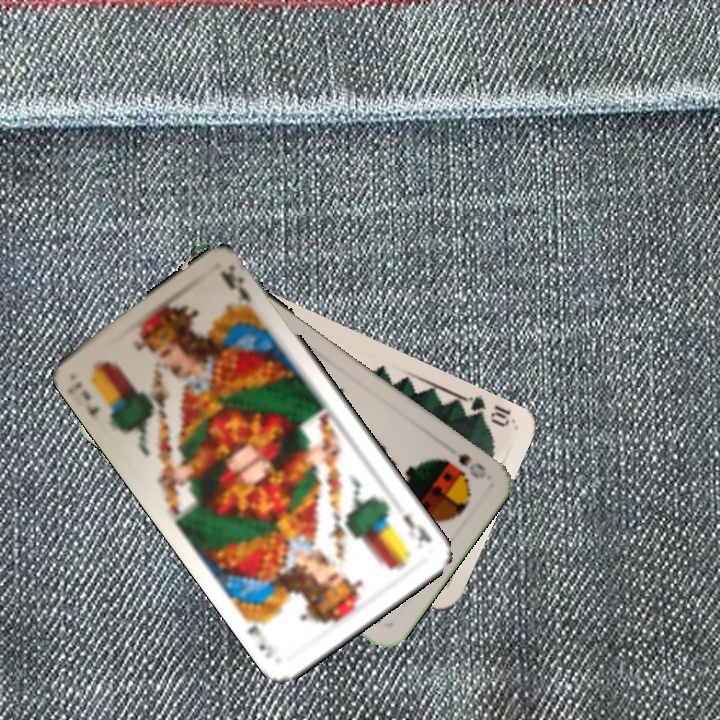EK: (66, 378, 103, 420), (399, 510, 435, 551)
G10: (457, 392, 514, 430)
SO: (453, 449, 489, 482)
